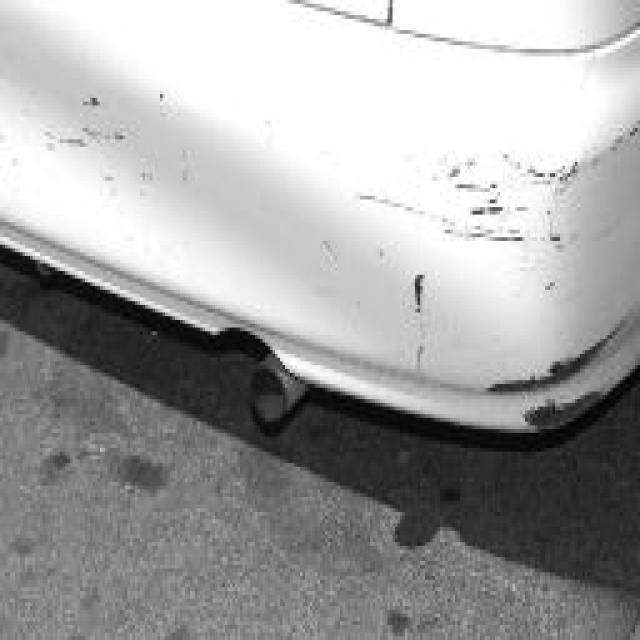Bumper: (18, 49, 622, 369)
